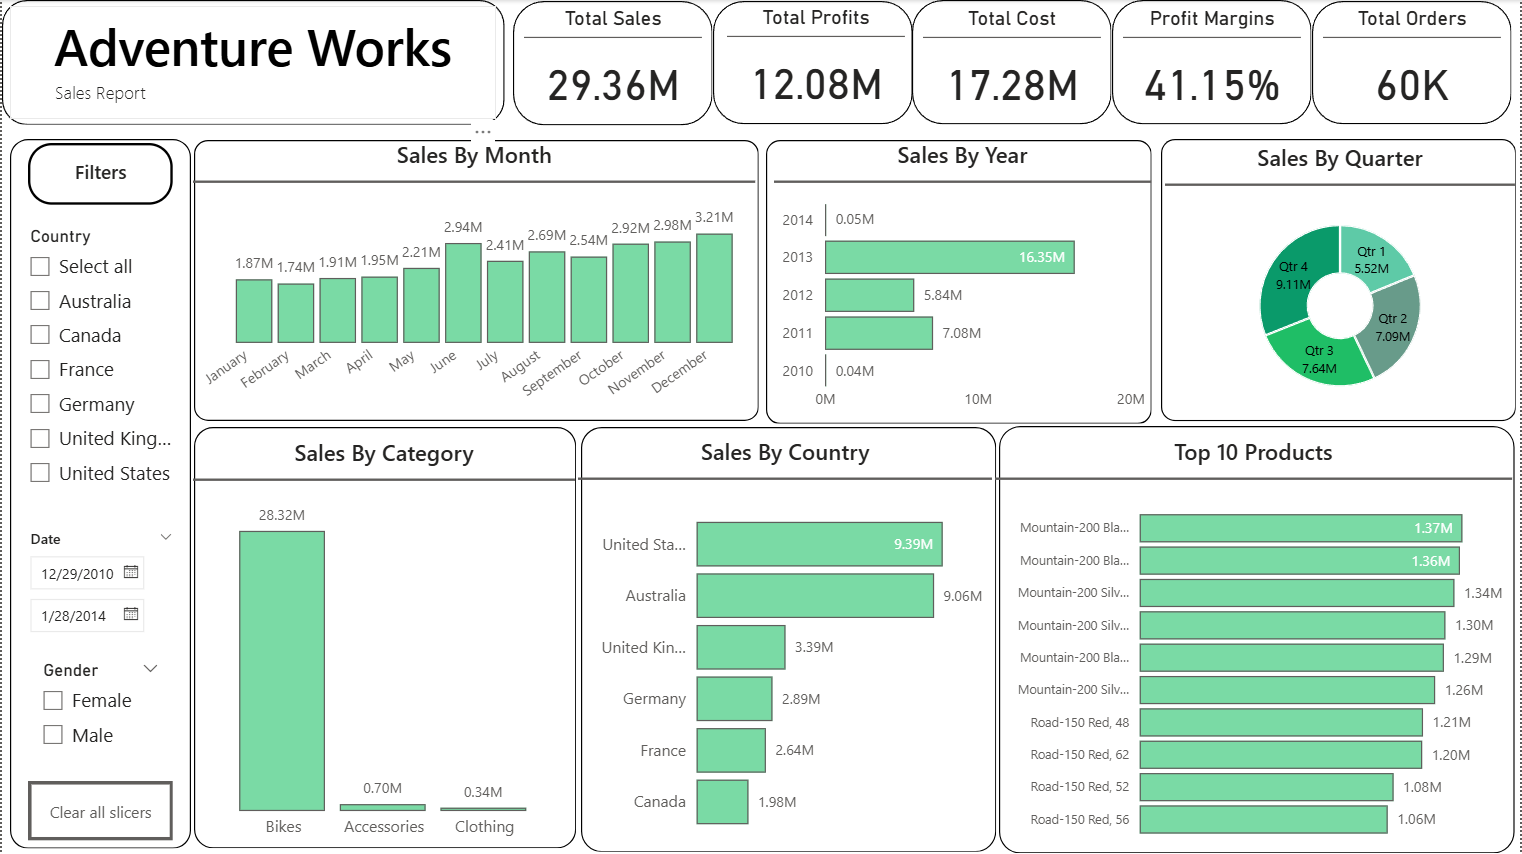

The page's visual inventory and layout, read from the dashboard file:
{"tool":"powerbi","page":{"name":"Dashboard","canvas":[1280,720],"ordinal":7},"visuals":[{"type":"group","id":"g1","title":"Group 6","box":[430.7,0,841.8,105.7],"z":0},{"type":"group","id":"g2","title":"Group 1","box":[430.7,0.9,168.4,104.8],"z":0,"group":"g1"},{"type":"shape","box":[430.7,0.9,168.4,104.8],"z":0,"group":"g2"},{"type":"shape","box":[976.8,117.5,299.5,237.9],"z":0,"group":"g11"},{"type":"shape","box":[161.2,118,476.3,236.9],"z":0,"group":"g12"},{"type":"shape","box":[644.5,118,325.3,239.5],"z":0,"group":"g4"},{"type":"shape","box":[840.3,359.4,434.7,360.4],"z":0,"group":"g10"},{"type":"shape","box":[161.6,360.4,322.3,355.3],"z":0,"group":"g8"},{"type":"shape","box":[488.1,360.4,350.2,358.4],"z":0,"group":"g6"},{"type":"shape","box":[599.1,0.9,168.4,103.9],"z":1,"group":"g3"},{"type":"shape","box":[767.4,0,168.4,104.8],"z":2,"group":"g5"},{"type":"shape","box":[935.8,0,168.4,104.8],"z":3,"group":"g7"},{"type":"shape","box":[1104.1,0.9,168.4,103.9],"z":4,"group":"g9"},{"type":"card","title":"Total Sales","fields":{"Values":["Sum(Sales.SalesAmt)"]},"box":[439.7,5.4,150.4,96.7],"z":5,"group":"g2"},{"type":"card","title":"Total Profits","fields":{"Values":["Sum(Sales.Profits)"]},"box":[610.7,4.5,150.4,96.7],"z":6,"group":"g3"},{"type":"card","title":"Total Cost","fields":{"Values":["Sum(Sales.ProductStandardCost)"]},"box":[776.4,5.4,150.4,96.7],"z":7,"group":"g5"},{"type":"card","title":"Profit Margins","fields":{"Values":["Sales.ProfitMargin%"]},"box":[944.8,5.4,150.4,96.7],"z":8,"group":"g7"},{"type":"card","title":"Total Orders","fields":{"Values":["Sum(Sales.OrderQuantity)"]},"box":[1113.1,5.4,150.4,96.7],"z":9,"group":"g9"},{"type":"group","id":"g3","title":"Group 2","box":[599.1,0.9,168.4,103.9],"z":1000,"group":"g1"},{"type":"columnChart","title":"Sales By Month","fields":{"Category":["Sales.OrderDate.Variation.Date Hierarchy.Month"],"Y":["Sum(Sales.SalesAmt)"]},"box":[160.6,117.5,474.4,237.9],"z":1000,"group":"g12"},{"type":"group","id":"g4","title":"Group 7","box":[644.5,117.5,325.3,239.9],"z":1000},{"type":"barChart","title":"Sales By Year","fields":{"Category":["Sales.OrderDate.Variation.Date Hierarchy.Year"],"Y":["Sum(Sales.SalesAmt)"]},"box":[651,117.5,317.8,237.5],"z":1000,"group":"g4"},{"type":"donutChart","title":"Sales By Quarter","fields":{"Category":["Sales.OrderDate.Variation.Date Hierarchy.Quarter"],"Y":["Sum(Sales.SalesAmt)"]},"box":[980.3,120.3,295.2,234.1],"z":1000,"group":"g11"},{"type":"barChart","title":"Sales By Country","fields":{"Y":["Sum(Sales.SalesAmt)"],"Category":["DimSalesTerritory.SalesTerritoryCountry"]},"box":[486,368,349.4,350.4],"z":1000,"group":"g6"},{"type":"barChart","title":"Top 10 Products","fields":{"Y":["Sum(Sales.SalesAmt)"],"Category":["Sales.ProductName"]},"box":[837,368,435.7,351.4],"z":1000,"group":"g10"},{"type":"columnChart","title":"Sales By Category","fields":{"Category":["Final_Products.ProductCategoryName"],"Y":["Sum(Sales.SalesAmt)"]},"box":[161,369,322.3,346.4],"z":1000,"group":"g8"},{"type":"group","id":"g5","title":"Group 3","box":[767.4,0,168.4,104.8],"z":2000,"group":"g1"},{"type":"group","id":"g6","title":"Group 7","box":[486,360.4,352.3,358.4],"z":2000},{"type":"group","id":"g7","title":"Group 4","box":[935.8,0,168.4,104.8],"z":3000,"group":"g1"},{"type":"group","id":"g8","title":"Group 7","box":[161,360.4,322.9,355.3],"z":3000},{"type":"group","id":"g9","title":"Group 5","box":[1104.1,0.9,168.4,103.9],"z":4000,"group":"g1"},{"type":"group","id":"g10","title":"Group 7","box":[837,359.4,438,360.4],"z":4000},{"type":"group","id":"g11","title":"Group 7","box":[976.8,117.5,299.2,236.9],"z":5000},{"type":"group","id":"g12","title":"Group 7","box":[160.6,117.5,476.9,237.9],"z":6000},{"type":"shape","box":[0,0,423.7,105.4],"z":7000},{"type":"textbox","box":[7,5,409.6,95.4],"z":8000},{"type":"shape","box":[7,117.5,152.6,598.3],"z":9000},{"type":"textbox","box":[22.1,120.5,122.5,52.2],"z":10000},{"type":"actionButton","box":[22.1,658.6,122.5,50.2],"z":11000},{"type":"slicer","fields":{"Values":["DimSalesTerritory.SalesTerritoryCountry"]},"box":[11,186.7,144.6,241.9],"z":12000},{"type":"slicer","fields":{"Values":["Sales.OrderDate"]},"box":[11,440.7,144.6,98.4],"z":13000},{"type":"slicer","fields":{"Values":["Dimcustomer.Gender"]},"box":[22.1,552.2,122.5,92.4],"z":14000}]}

Visuals, with their boxes in screenshot pixels (x1, y1, x2, y2), scaled from the page's 1280x720 canvas onto the 1522x854 screenshot:
"Group 6" group: (512, 0, 1513, 125)
"Group 1" group: (512, 1, 712, 125)
shape: (512, 1, 712, 125)
shape: (1161, 139, 1518, 422)
shape: (192, 140, 758, 421)
shape: (766, 140, 1153, 424)
shape: (999, 426, 1516, 853)
shape: (192, 427, 575, 849)
shape: (580, 427, 997, 853)
shape: (712, 1, 913, 124)
shape: (912, 0, 1113, 124)
shape: (1113, 0, 1313, 124)
shape: (1313, 1, 1513, 124)
"Total Sales" card: (523, 6, 702, 121)
"Total Profits" card: (726, 5, 905, 120)
"Total Cost" card: (923, 6, 1102, 121)
"Profit Margins" card: (1123, 6, 1302, 121)
"Total Orders" card: (1324, 6, 1502, 121)
"Group 2" group: (712, 1, 913, 124)
"Sales By Month" columnChart: (191, 139, 755, 422)
"Group 7" group: (766, 139, 1153, 424)
"Sales By Year" barChart: (774, 139, 1152, 421)
"Sales By Quarter" donutChart: (1166, 143, 1517, 420)
"Sales By Country" barChart: (578, 436, 993, 852)
"Top 10 Products" barChart: (995, 436, 1513, 853)
"Sales By Category" columnChart: (191, 438, 575, 849)
"Group 3" group: (912, 0, 1113, 124)
"Group 7" group: (578, 427, 997, 853)
"Group 4" group: (1113, 0, 1313, 124)
"Group 7" group: (191, 427, 575, 849)
"Group 5" group: (1313, 1, 1513, 124)
"Group 7" group: (995, 426, 1516, 853)
"Group 7" group: (1161, 139, 1517, 420)
"Group 7" group: (191, 139, 758, 422)
shape: (0, 0, 504, 125)
textbox: (8, 6, 495, 119)
shape: (8, 139, 190, 849)
textbox: (26, 143, 172, 205)
actionButton: (26, 781, 172, 841)
slicer - DimSalesTerritory.SalesTerritoryCountry: (13, 221, 185, 508)
slicer - Sales.OrderDate: (13, 523, 185, 639)
slicer - Dimcustomer.Gender: (26, 655, 172, 765)
